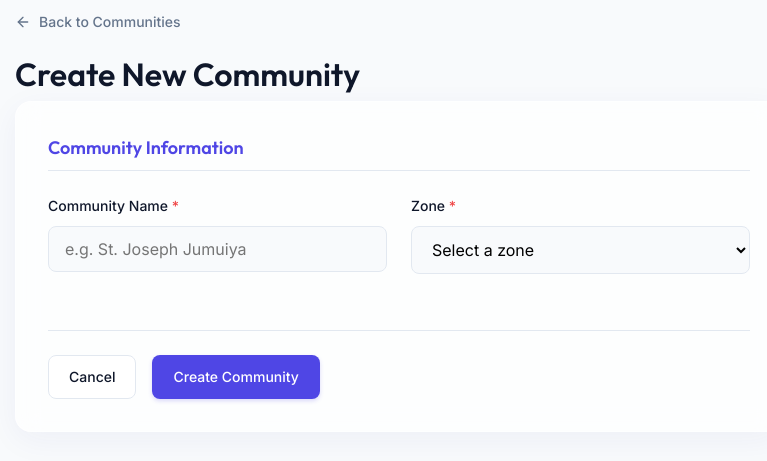
Scenario: CommunityCreate.vue › handles creation error
Step 1. Type "Test Community" into the field with id "name" → (218, 249), box x1=48 y1=226 x2=387 y2=272
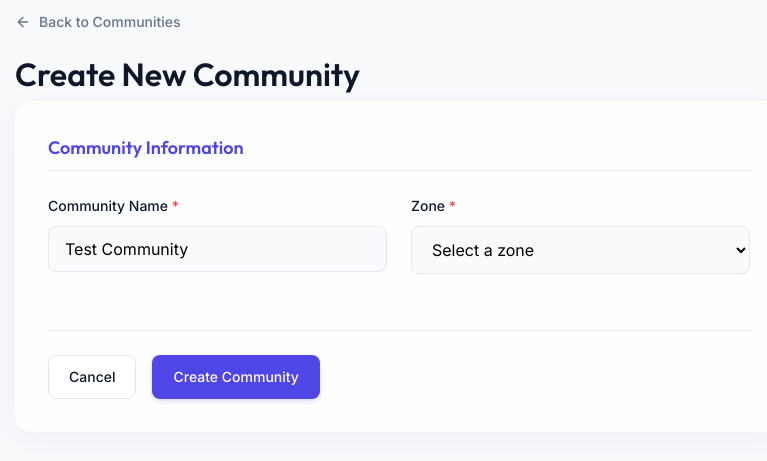
Step 2. Select "Zone 2" in the dropdown with id "zone_id" → (580, 250), box x1=411 y1=226 x2=750 y2=274
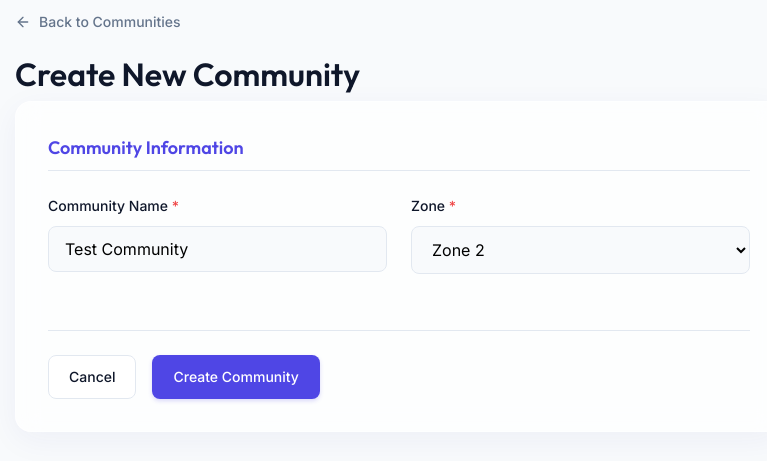
Step 3. Submit the form, box x1=48 y1=134 x2=750 y2=399
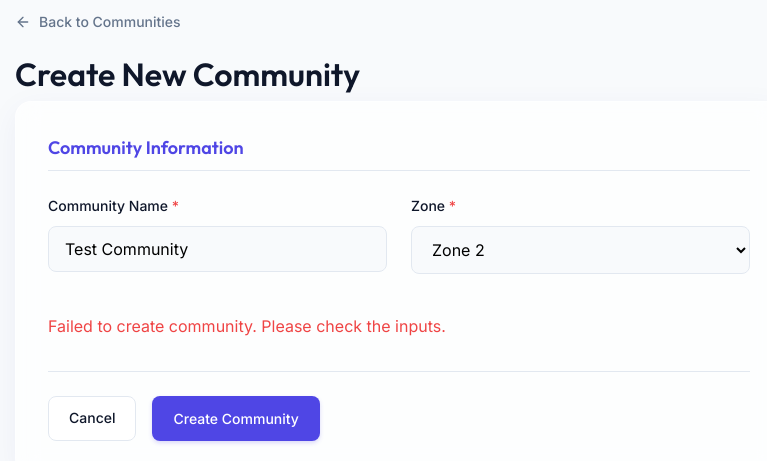
Check: the text "Failed to create community. Please check the inputs." is shown, box x1=48 y1=316 x2=446 y2=336
